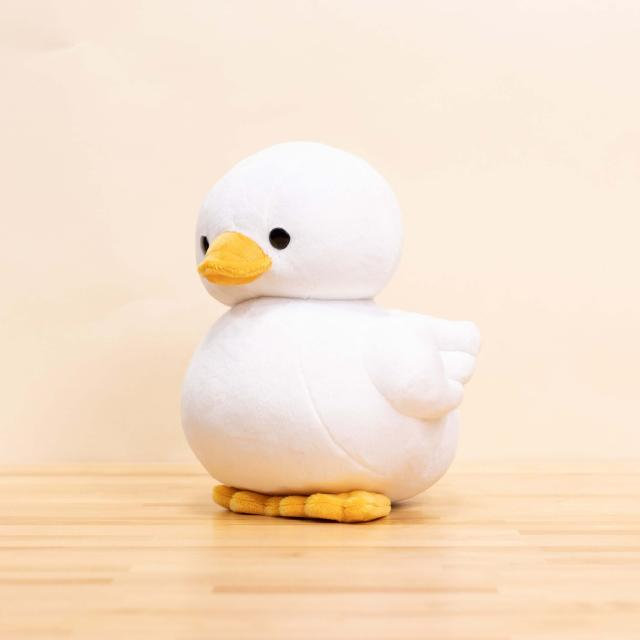Duck: (178, 142, 481, 526)
